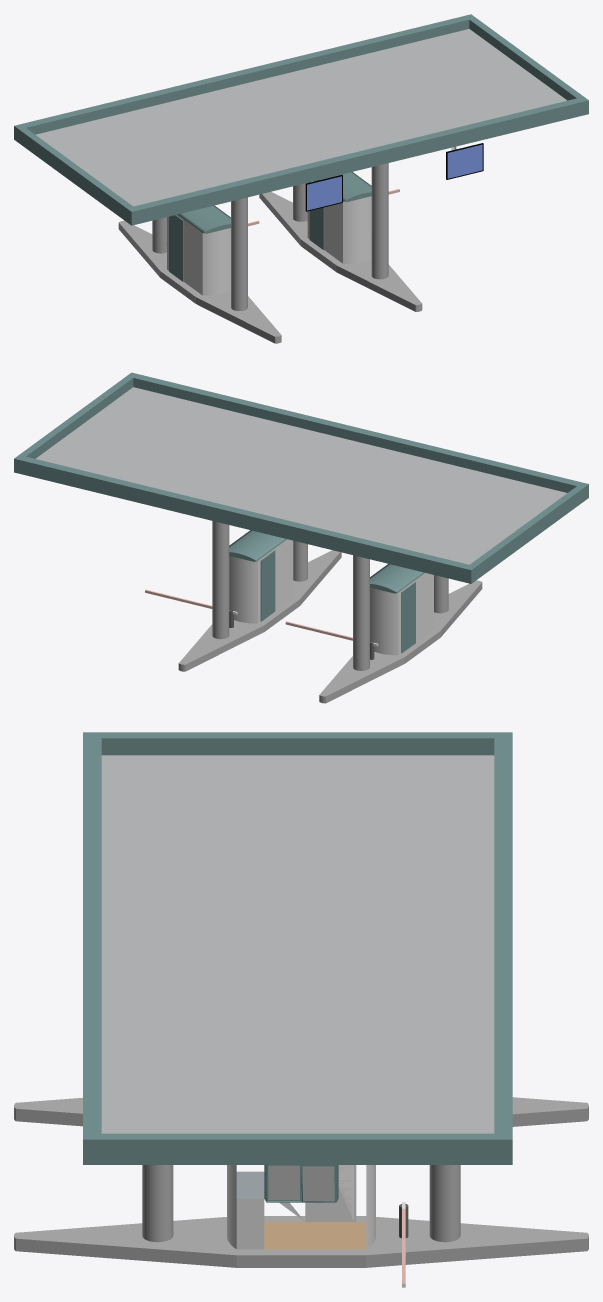
The model's file is crossing.glb.
3 renders of one model, top to bottom at view 1: azimuth 30°, elevation 25°; view 2: azimuth 150°, elevation 25°; view 3: azimuth 270°, elevation 25°, orthographic. The views are drawn at different scales.
Bounding box in the file's own units: 20.59 × 6.51 × 12.28.
